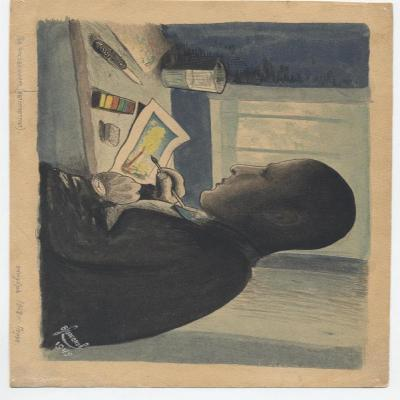graphics: (9, 0, 394, 388)
